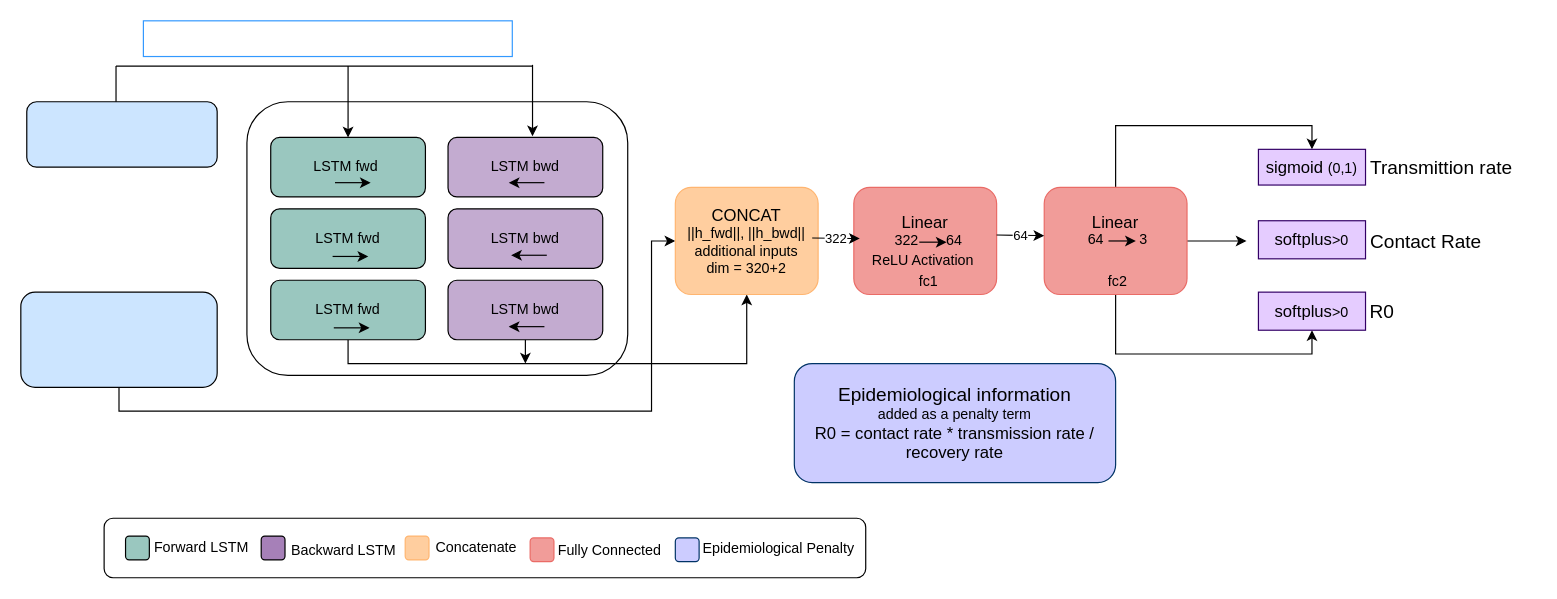
This 1557x599 diagram has some shape labels left out. The centre of each missing label's shape, as x and y in pixels:
3 BiLSTM layers . 160 hidden units . 0.5 dropout: pixel 327 38
Additional Inputs n: population size recov: recovery rate: pixel 118 339
Incidence Series T * 1 (T = 60): pixel 121 134
